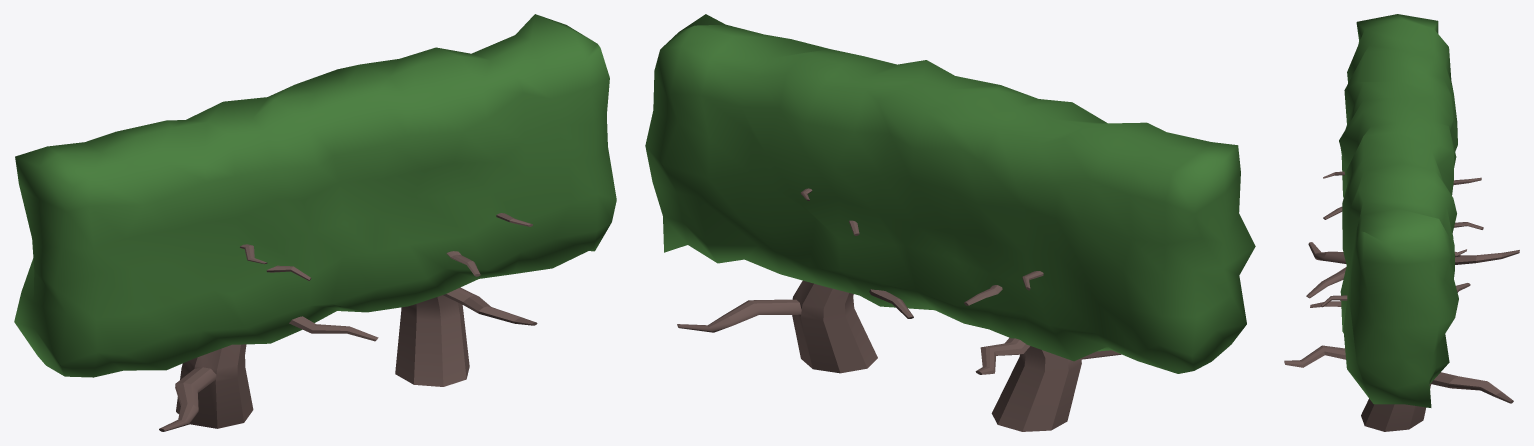
File: haie3.fbx
3 views of the same model, side by side, from view 1: azimuth 30°, elevation 25°; view 2: azimuth 150°, elevation 25°; view 3: azimuth 270°, elevation 25° (orthographic). The views are drawn at different scales.
Visible parts, largest first — view 1: Leaves, Trunk.001, Trunk; view 2: Leaves, Trunk.001, Trunk; view 3: Leaves, Trunk.001, Trunk.
Part boxes in pixels (x1,y1,x2,y2): Leaves: (14,14,616,377); Trunk.001: (395,213,537,386); Trunk: (159,244,378,431); Leaves: (645,14,1255,373); Trunk.001: (677,188,913,373); Trunk: (964,271,1121,431); Leaves: (1339,14,1458,407); Trunk.001: (1284,249,1513,431); Trunk: (1306,171,1519,298).
Bounding box in the file's own units: 1.03 × 0.5389 × 0.447.
